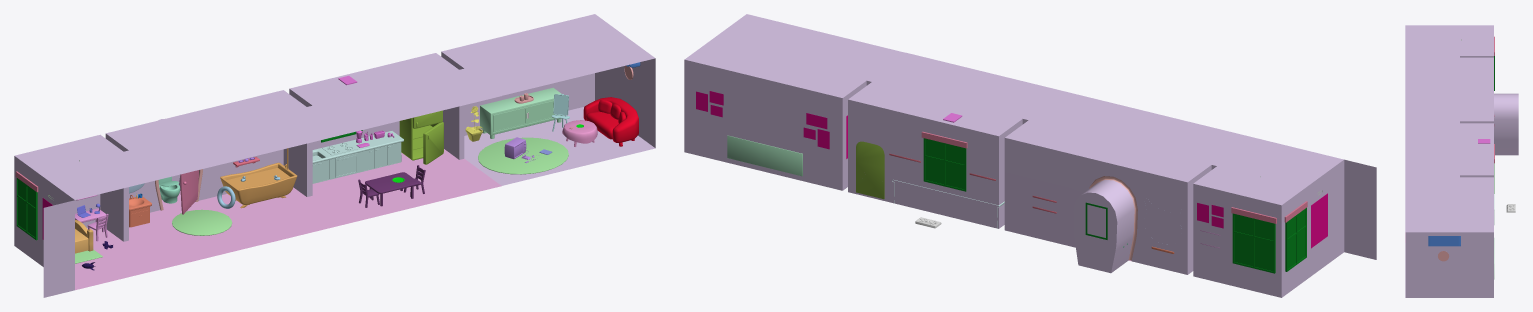
The model's file is HOUSE.fbx.
3 views of the same model, side by side, from view 1: azimuth 30°, elevation 25°; view 2: azimuth 150°, elevation 25°; view 3: azimuth 270°, elevation 25° (orthographic). The views are drawn at different scales.
Visible parts, largest first — view 1: Wall, Floor, Cube.006, Rug_2.001, Cube.001, bathtub, Kitchen, Rug_2, Fridge, Dining_Table, Window_Glass_1, Kitchen_Door_2 (+10 smaller); view 2: Wall, Window_Glass_2, Cube.006, Fridge, Window_Glass_4, Window_Glass_1, Art_Frame_1, Window_frame_2, Window_frame_4, Window_frame_1, Wall_reference.001; view 3: Wall, Cube.008, Cylinder.005, Stove Gas Dual.
Part boxes in pixels (left/top/right/bottom): Wall: left=14, top=14, right=655, bottom=297; Floor: left=75, top=149, right=501, bottom=290; Cube.006: left=480, top=87, right=563, bottom=138; Rug_2.001: left=478, top=137, right=568, bottom=174; Cube.001: left=583, top=97, right=638, bottom=146; bathtub: left=220, top=162, right=297, bottom=208; Kitchen: left=312, top=131, right=403, bottom=183; Rug_2: left=172, top=209, right=232, bottom=235; Fridge: left=399, top=118, right=438, bottom=160; Dining_Table: left=365, top=172, right=418, bottom=206; Window_Glass_1: left=18, top=180, right=35, bottom=237; Kitchen_Door_2: left=361, top=143, right=397, bottom=171; Wall: left=684, top=14, right=1376, bottom=297; Window_Glass_2: left=1234, top=215, right=1273, bottom=271; Cube.006: left=727, top=135, right=802, bottom=176; Fridge: left=856, top=141, right=884, bottom=199; Window_Glass_4: left=925, top=139, right=964, bottom=189; Window_Glass_1: left=1287, top=210, right=1305, bottom=268; Art_Frame_1: left=1311, top=193, right=1327, bottom=248; Window_frame_2: left=1232, top=213, right=1275, bottom=273; Window_frame_4: left=923, top=138, right=966, bottom=191; Window_frame_1: left=1285, top=207, right=1306, bottom=271; Wall_reference.001: left=1089, top=176, right=1137, bottom=260; Wall: left=1405, top=25, right=1518, bottom=297; Cube.008: left=1428, top=236, right=1460, bottom=246; Cylinder.005: left=1438, top=251, right=1449, bottom=261; Stove Gas Dual: left=1506, top=204, right=1515, bottom=212.
Size of the model in its own units: 2168 by 313 by 477.
